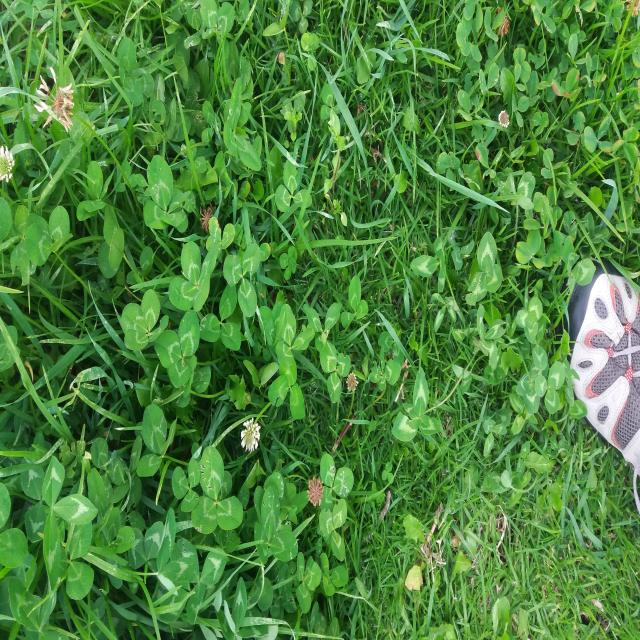Four Leaf Clover: (143, 156, 190, 230), (170, 240, 218, 311), (121, 288, 166, 350)
